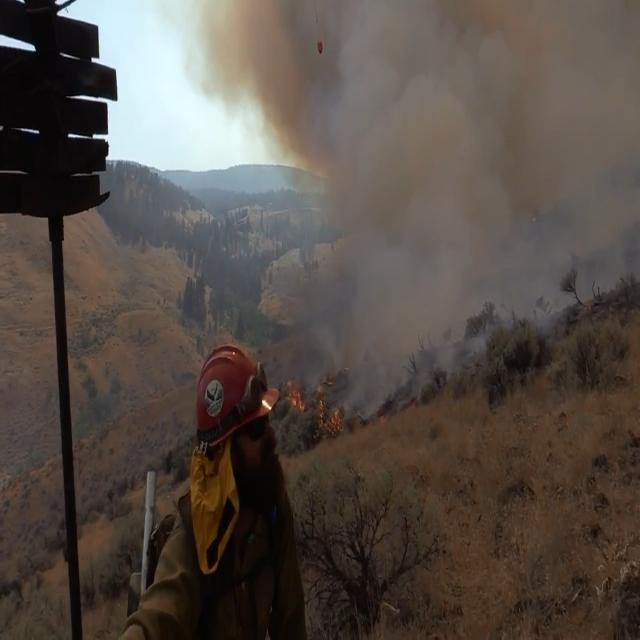Fire: (273, 379, 370, 444)
